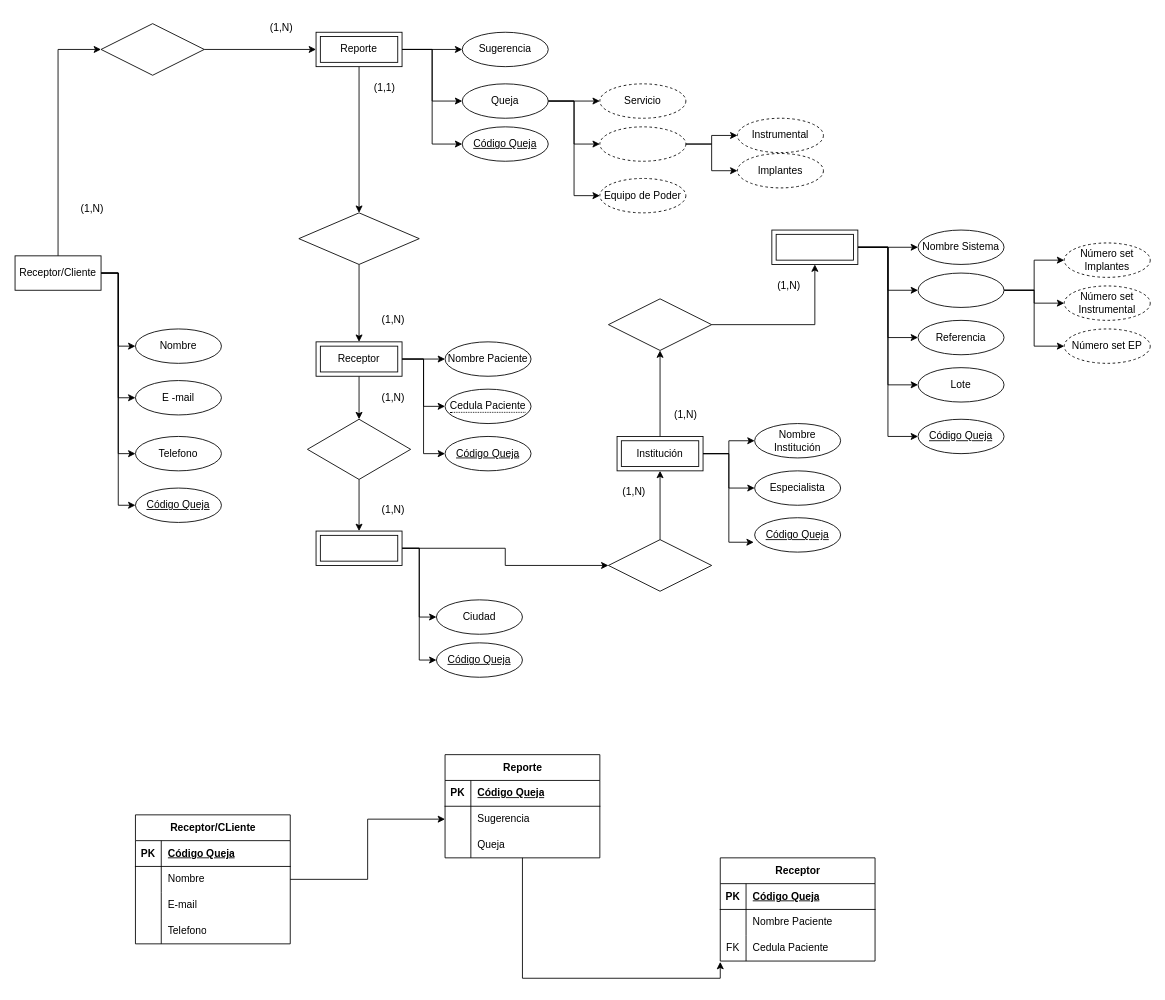
Image size: 1165x1000. Some labels were removed from this diagram. Each missing label, with the box of its shape:
Desde donde lo reportan: (307, 418, 411, 479)
Institución Registra: (608, 539, 712, 591)
Número Set: (917, 272, 1004, 307)
Producto: (599, 126, 686, 161)
Regional: (315, 530, 402, 565)
Registra: (100, 23, 204, 75)
Sistema Utilizado: (771, 229, 858, 264)
¿Nombre DM?: (608, 298, 712, 350)
¿Quien lo reporta?: (298, 212, 419, 264)
